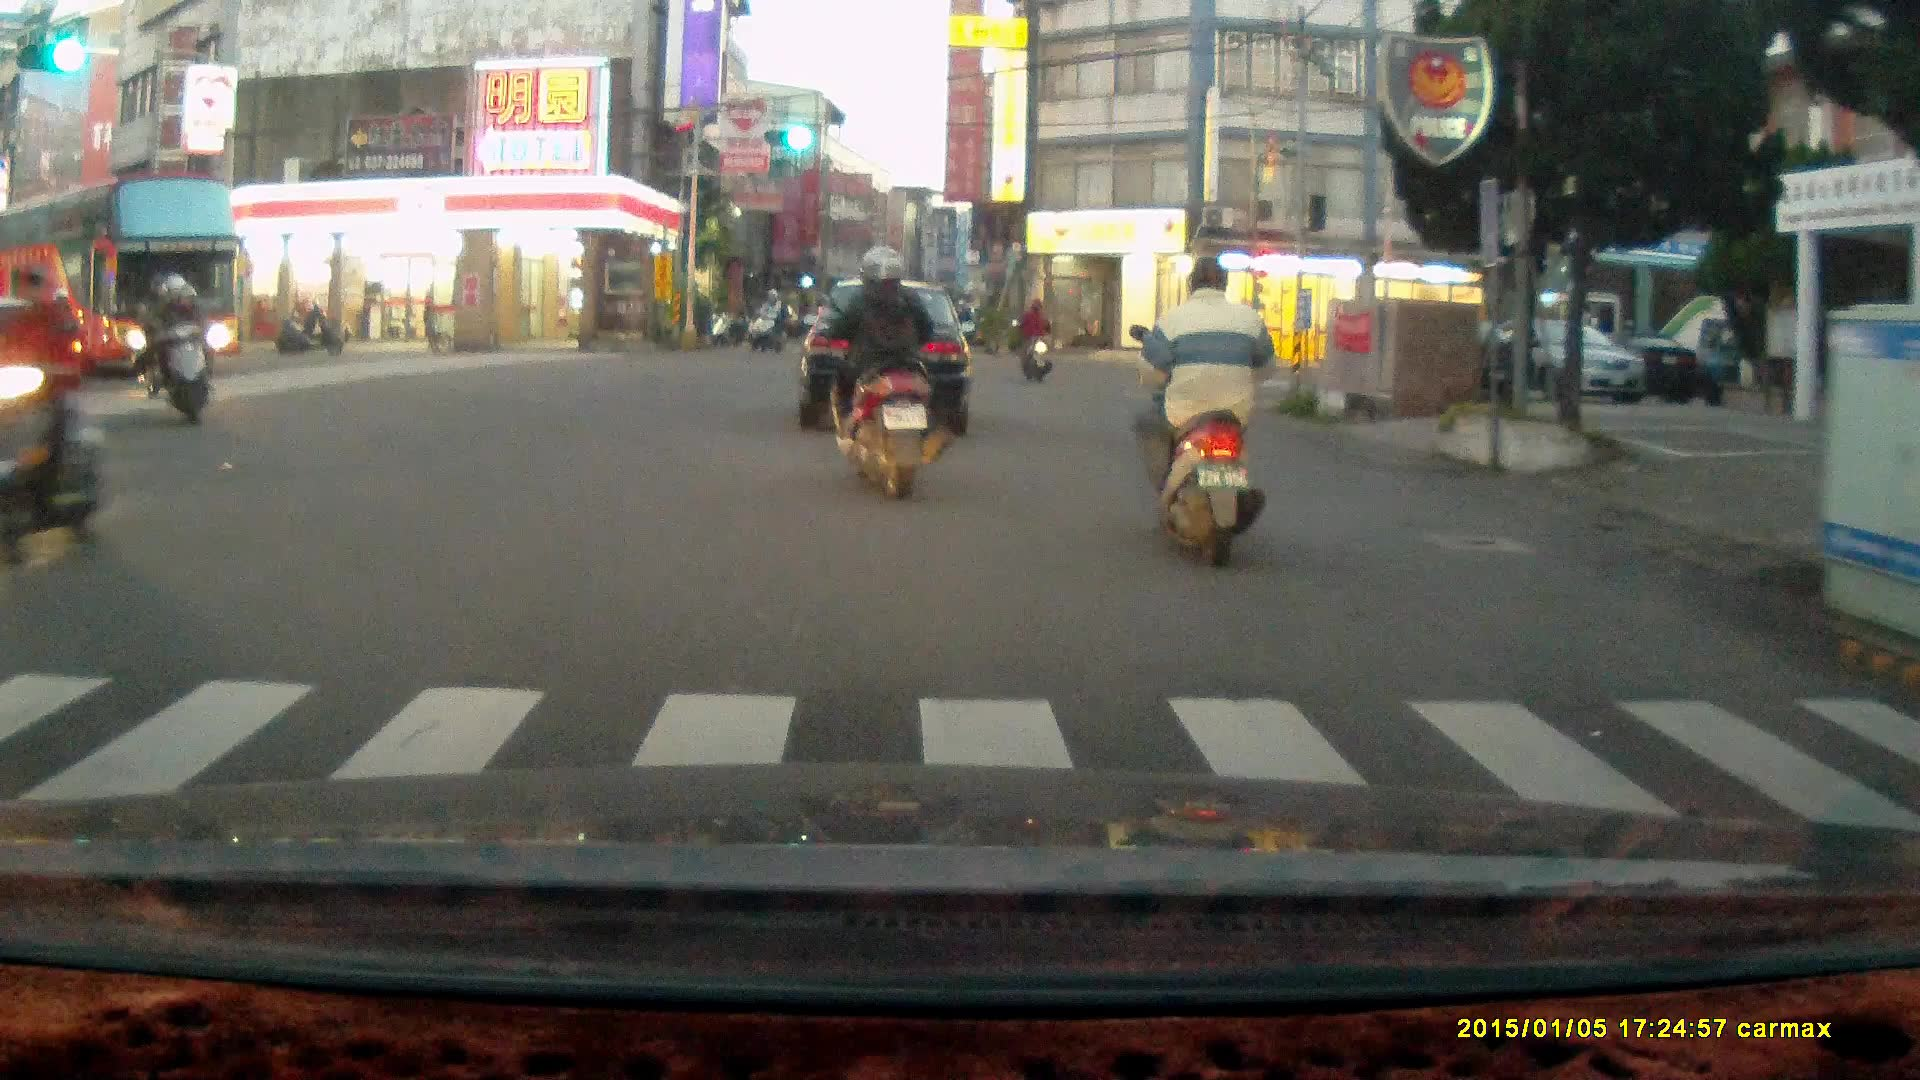rider: (1128, 250, 1273, 564), (815, 237, 955, 504), (7, 267, 104, 556), (144, 270, 212, 425), (1008, 297, 1054, 384), (751, 288, 783, 352)
vehicle: (1, 177, 241, 380), (1438, 314, 1649, 401)
